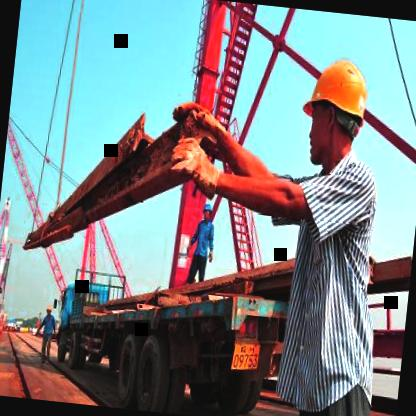helmet: (293, 43, 382, 183), (200, 202, 212, 222), (44, 303, 54, 319)
